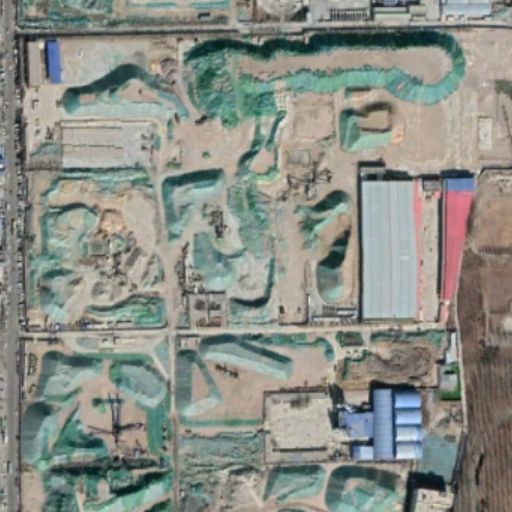cw: (19, 29, 469, 329), (20, 334, 469, 512)
